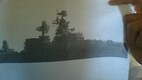tau_muctieu: (1, 14, 130, 64)
